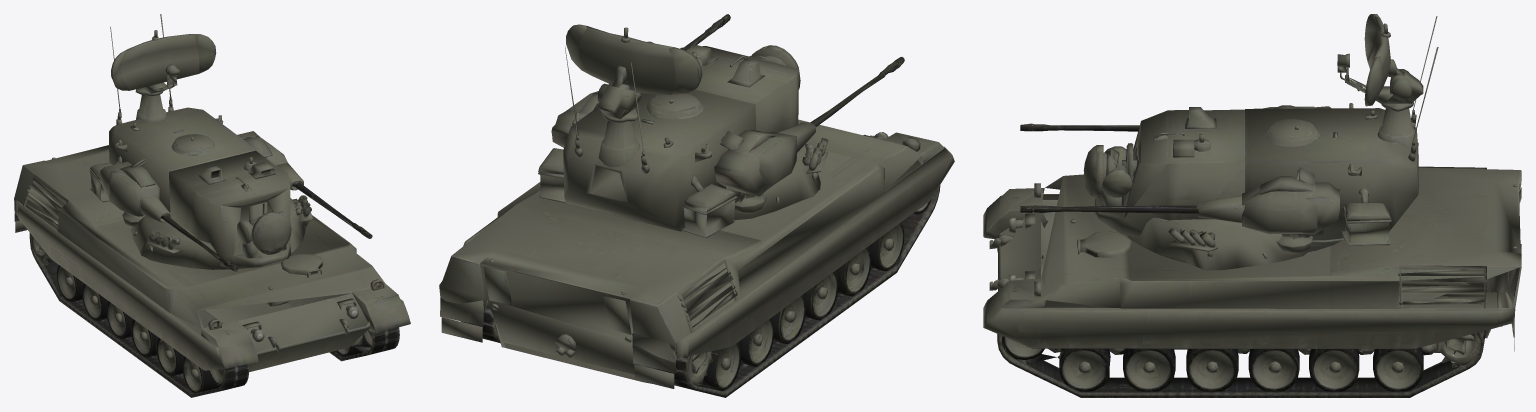
The model's file is aa_tank.glb.
The picture shows the model from 3 angles, left to right: view 1: azimuth 30°, elevation 25°; view 2: azimuth 150°, elevation 25°; view 3: azimuth 270°, elevation 25°; orthographic projection. The views are drawn at different scales.
Parts seen in each view (by area): view 1: hull, P_turret, P_barrel, turret_radar; view 2: hull, P_turret, turret_radar, P_barrel; view 3: hull, P_turret, P_barrel, turret_radar.
Boxes of the visible parts, x1,y1,x2,y2 form: hull: [14, 145, 410, 397]; P_turret: [89, 34, 314, 269]; P_barrel: [179, 188, 372, 271]; turret_radar: [110, 14, 199, 108]; hull: [439, 119, 954, 397]; P_turret: [538, 24, 833, 238]; turret_radar: [565, 26, 676, 151]; P_barrel: [684, 14, 904, 116]; hull: [983, 166, 1521, 397]; P_turret: [1090, 14, 1418, 270]; P_barrel: [1020, 123, 1167, 218]; turret_radar: [1337, 16, 1438, 140].
Bounding box in the file's own units: 3.81 × 4.99 × 7.6.
Materials: 4 (3 with a texture image).
